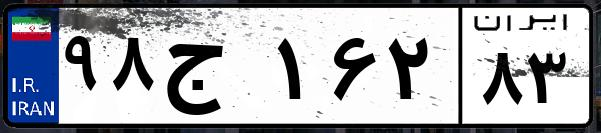1: (270, 28, 330, 110)
2: (385, 28, 445, 110)
3: (525, 38, 570, 115)
6: (330, 28, 385, 110)
8: (475, 38, 525, 113), (110, 28, 158, 98)
9: (57, 26, 110, 100)
ج: (158, 20, 270, 120)
